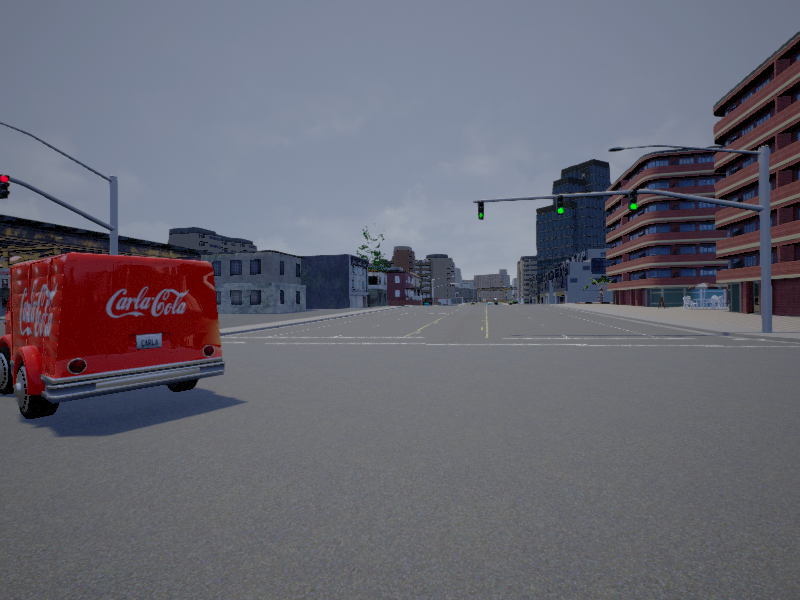Benign: (1, 258, 219, 418)
